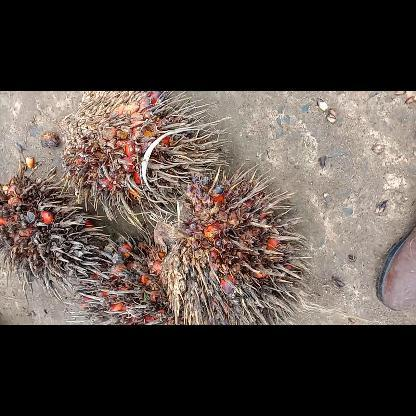Terlalu masak: (150, 160, 318, 324), (56, 90, 240, 235), (0, 164, 115, 308), (62, 236, 210, 324)
